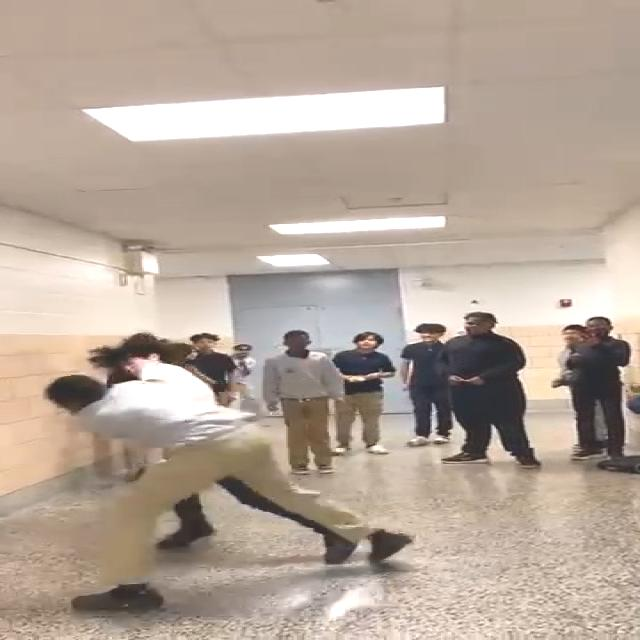fight: (40, 333, 410, 612)
